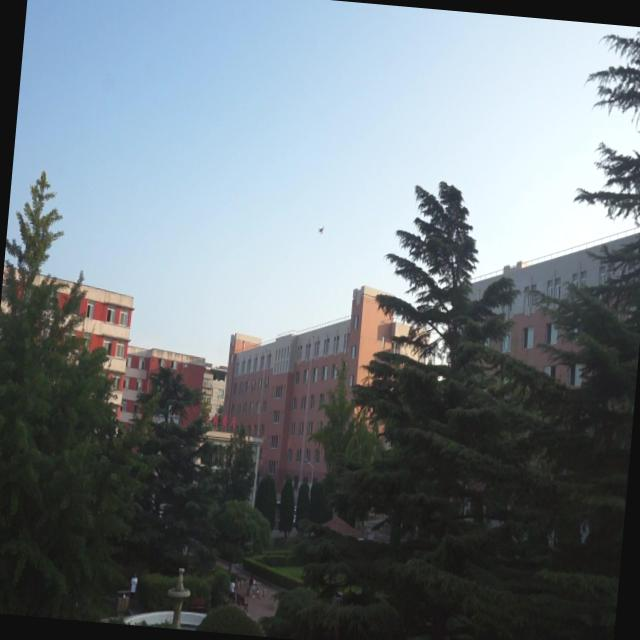drone: (316, 220, 325, 237)
